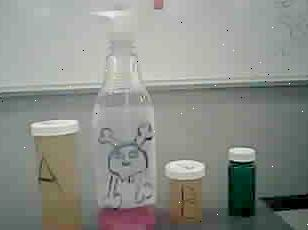Bottle A: (21, 111, 86, 230)
Bottle B: (159, 150, 215, 228)
Bottle C: (224, 142, 264, 224)
hazard: (78, 0, 166, 230)
